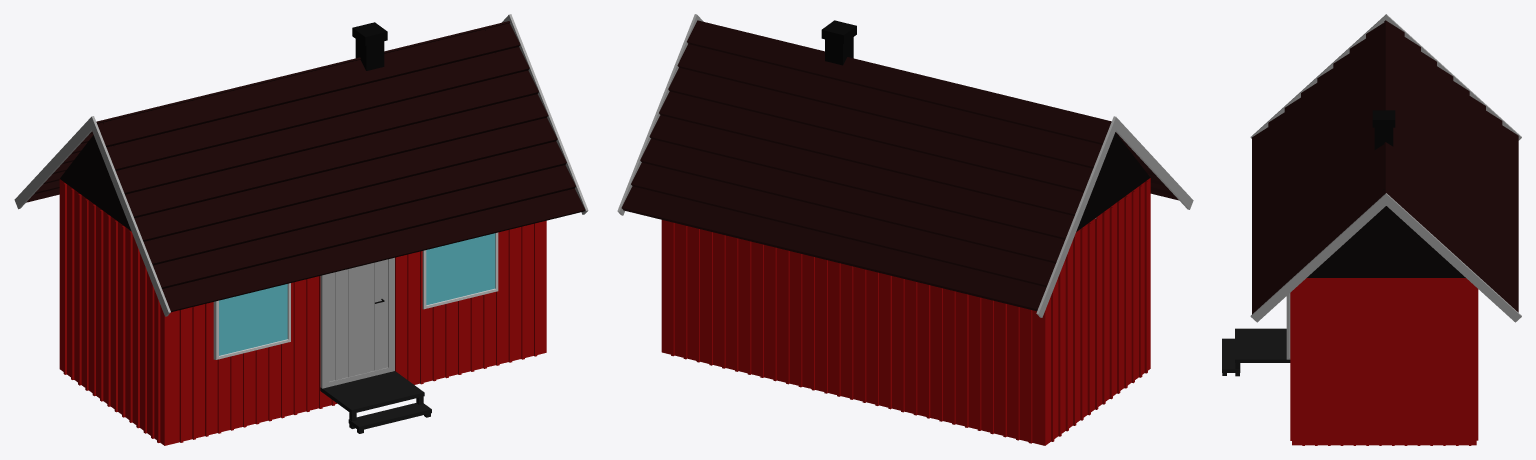
File: house.obj
The picture shows the model from 3 angles, left to right: view 1: azimuth 30°, elevation 25°; view 2: azimuth 150°, elevation 25°; view 3: azimuth 270°, elevation 25°; orthographic projection. The views are drawn at different scales.
Visible parts, largest first — view 1: Tak_Plane.003, Cube, Cube.002_Cube.006, window1_Plane.001, window2_Plane.002, Cube.005_Cube.009, Plane.001_Plane.008, vindskiva2.001_Cube.004, Cube.010_Cube.014, vindskiva1.001_Cube.003, Cube.004_Cube.005, vindskiva2_Cube.002 (+2 smaller); view 2: Tak_Plane.003, Cube, Plane.001_Plane.008, vindskiva1.001_Cube.003, vindskiva2.001_Cube.004, Cube.010_Cube.014, vindskiva1_Cube.001; view 3: Tak_Plane.003, Cube, Plane.002_Plane.007, Cube.005_Cube.009, vindskiva1_Cube.001, vindskiva2_Cube.002, Cube.010_Cube.014, vindskiva1.001_Cube.003, vindskiva2.001_Cube.004, Cube.004_Cube.005.
Part boxes in pixels (left/top/right/bottom): Tak_Plane.003: left=26, top=21, right=585, bottom=312; Cube: left=59, top=179, right=546, bottom=445; Cube.002_Cube.006: left=320, top=257, right=394, bottom=388; window1_Plane.001: left=426, top=233, right=495, bottom=305; window2_Plane.002: left=219, top=284, right=287, bottom=355; Cube.005_Cube.009: left=320, top=371, right=424, bottom=413; Plane.001_Plane.008: left=60, top=123, right=131, bottom=231; vindskiva2.001_Cube.004: left=89, top=117, right=170, bottom=316; Cube.010_Cube.014: left=352, top=22, right=387, bottom=70; vindskiva1.001_Cube.003: left=14, top=116, right=97, bottom=209; Cube.004_Cube.005: left=348, top=403, right=431, bottom=430; vindskiva2_Cube.002: left=511, top=23, right=588, bottom=214; Tak_Plane.003: left=621, top=20, right=1178, bottom=311; Cube: left=661, top=178, right=1150, bottom=445; Plane.001_Plane.008: left=1076, top=132, right=1150, bottom=231; vindskiva1.001_Cube.003: left=1036, top=119, right=1119, bottom=317; vindskiva2.001_Cube.004: left=1110, top=116, right=1193, bottom=209; Cube.010_Cube.014: left=821, top=20, right=856, bottom=65; vindskiva1_Cube.001: left=617, top=16, right=700, bottom=215; Tak_Plane.003: left=1252, top=20, right=1518, bottom=314; Cube: left=1290, top=278, right=1478, bottom=445; Plane.002_Plane.007: left=1307, top=189, right=1465, bottom=277; Cube.005_Cube.009: left=1235, top=328, right=1290, bottom=362; vindskiva1_Cube.001: left=1379, top=193, right=1521, bottom=322; vindskiva2_Cube.002: left=1250, top=193, right=1392, bottom=322; Cube.010_Cube.014: left=1372, top=110, right=1395, bottom=149; vindskiva1.001_Cube.003: left=1379, top=14, right=1521, bottom=140; vindskiva2.001_Cube.004: left=1250, top=14, right=1392, bottom=138; Cube.004_Cube.005: left=1222, top=338, right=1240, bottom=372.
Bounding box in the file's own units: 4.62 × 3.31 × 3.25.
